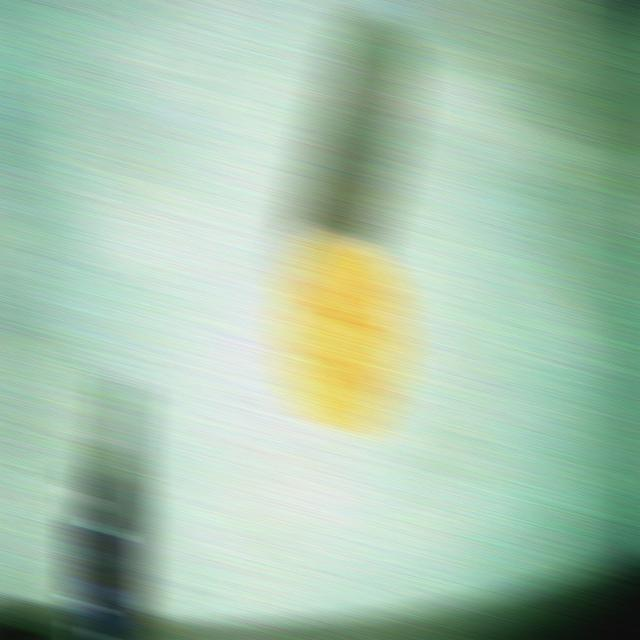yellow: (278, 235, 407, 432)
